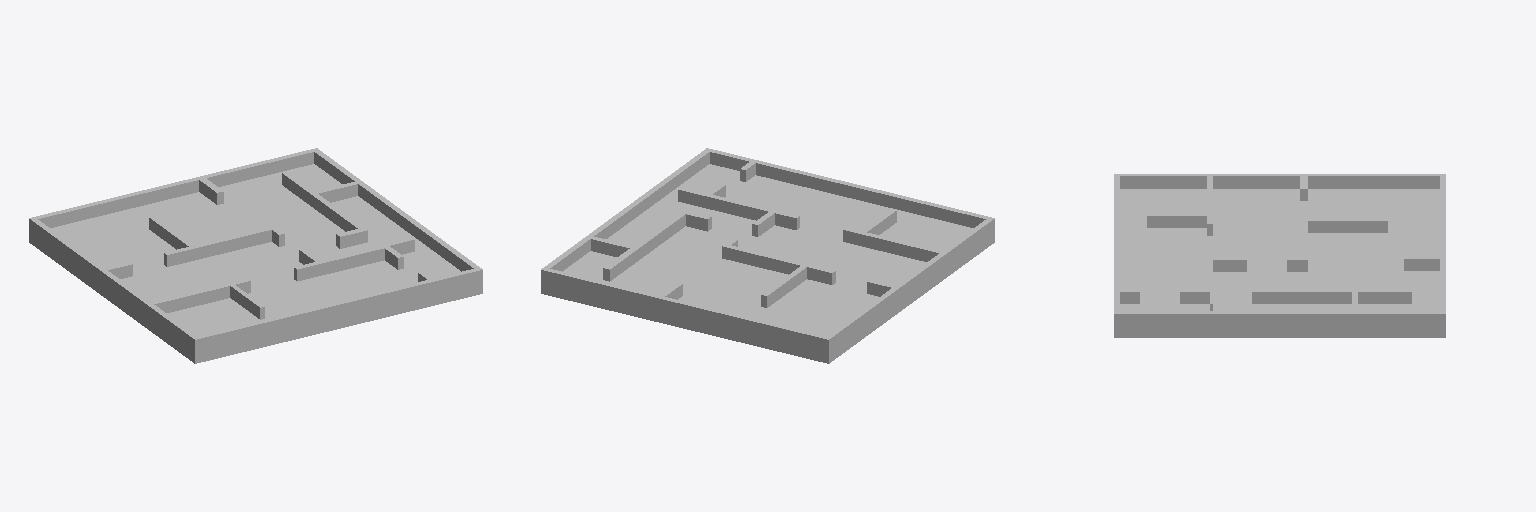
Rendered from ghost_bg01.vox 1.obj.
3 renders of one model, left to right at view 1: azimuth 30°, elevation 25°; view 2: azimuth 150°, elevation 25°; view 3: azimuth 270°, elevation 25°, orthographic.
Parts seen in each view (by area): view 1: object 1; view 2: object 1; view 3: object 1.
Part boxes in pixels (x1,y1,x2,y2): object 1: (29,148,482,363); object 1: (541,148,994,363); object 1: (1114,174,1445,337).
Bounding box in the file's own units: 25 × 2 × 25.